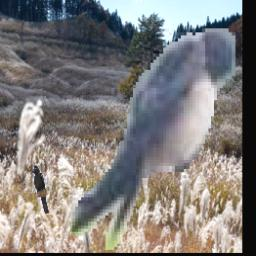Crow: (31, 165, 48, 214)
Swallow: (69, 29, 235, 253)
